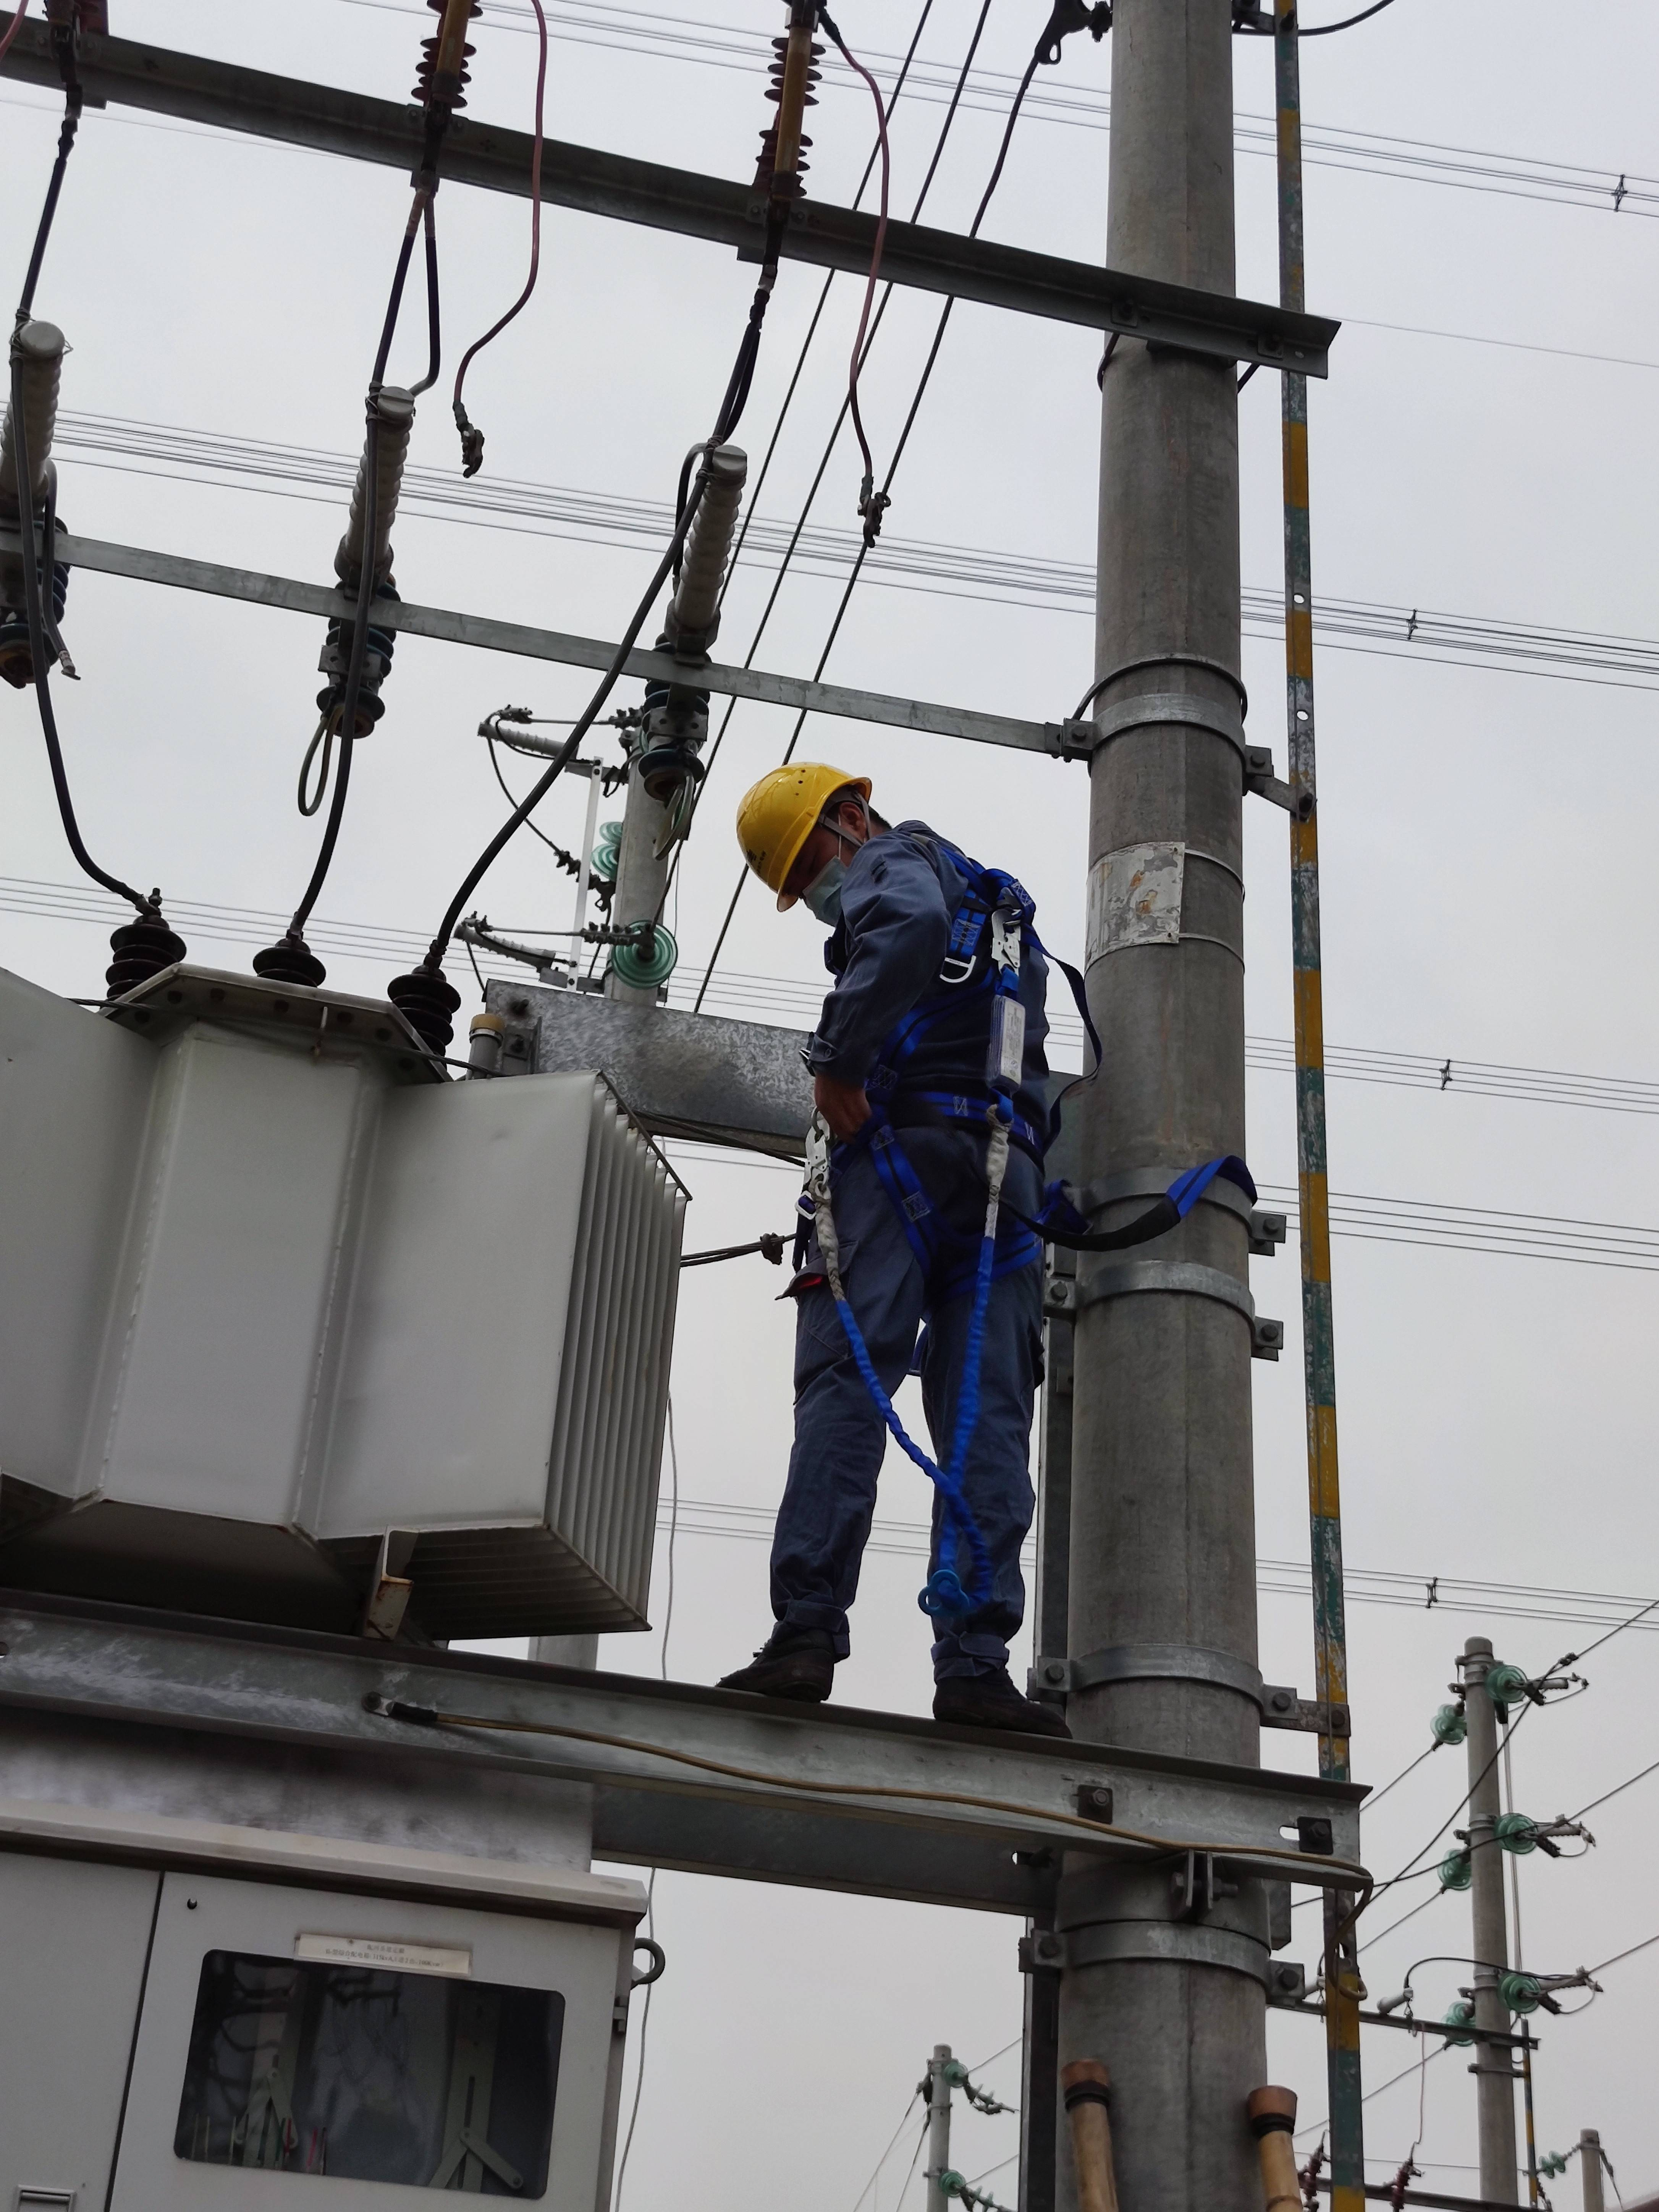downsuit: (770, 1153, 1049, 1649)
upsuit: (816, 829, 1051, 1125)
